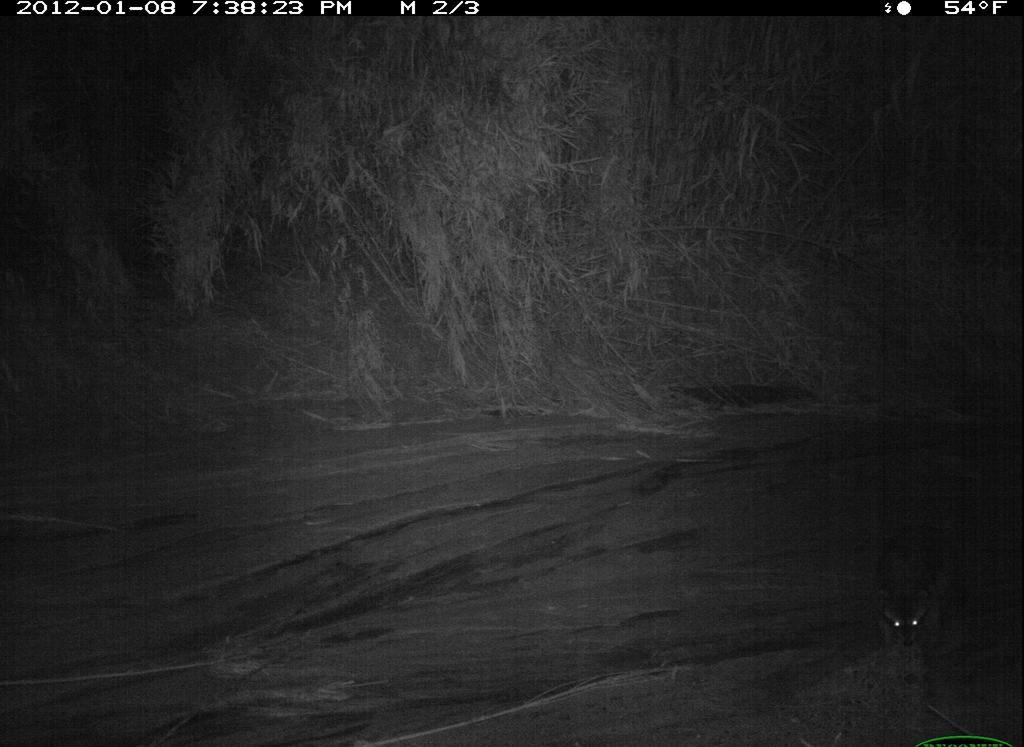raccoon: (853, 492, 976, 665)
